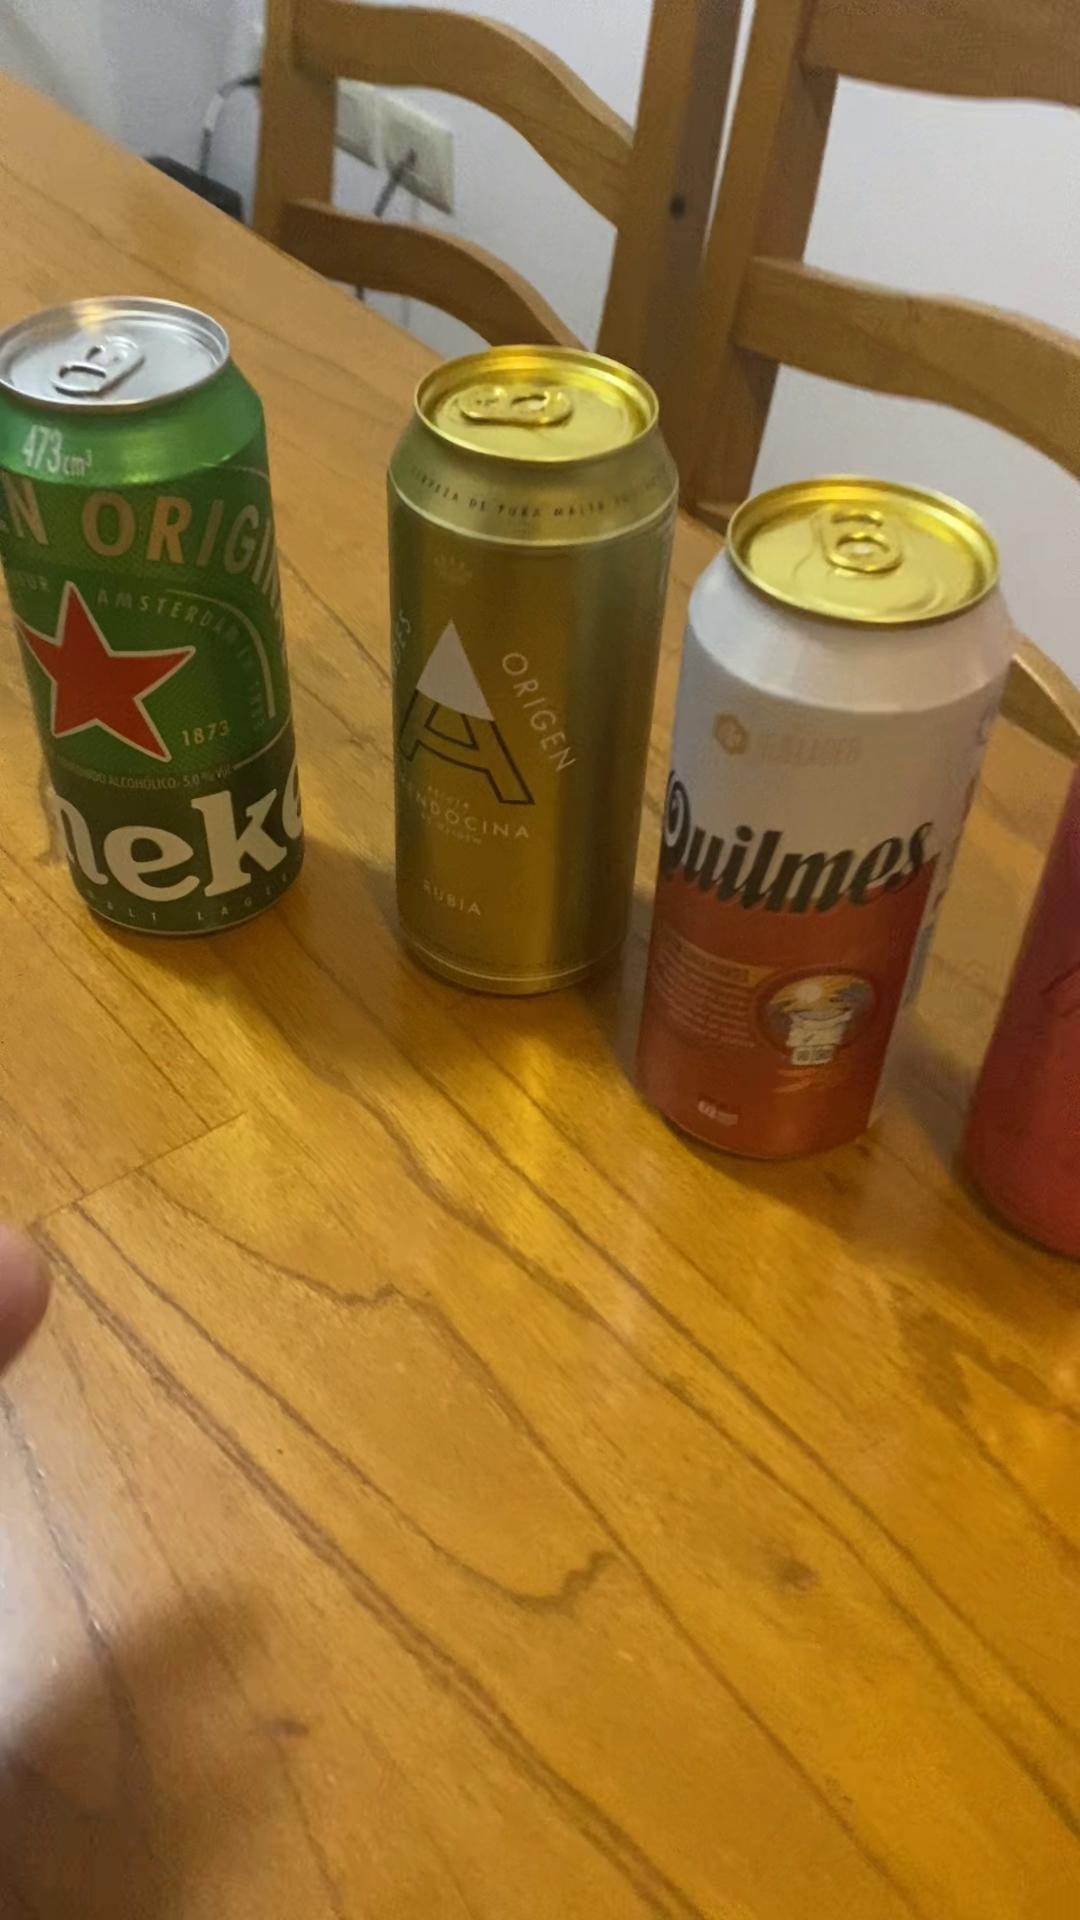metal: (636, 505, 1018, 1156), (0, 295, 302, 934), (389, 345, 676, 992), (957, 737, 1079, 1255), (727, 477, 998, 624)
